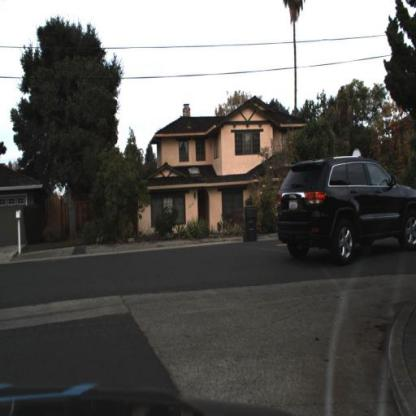car: (273, 144, 416, 277)
